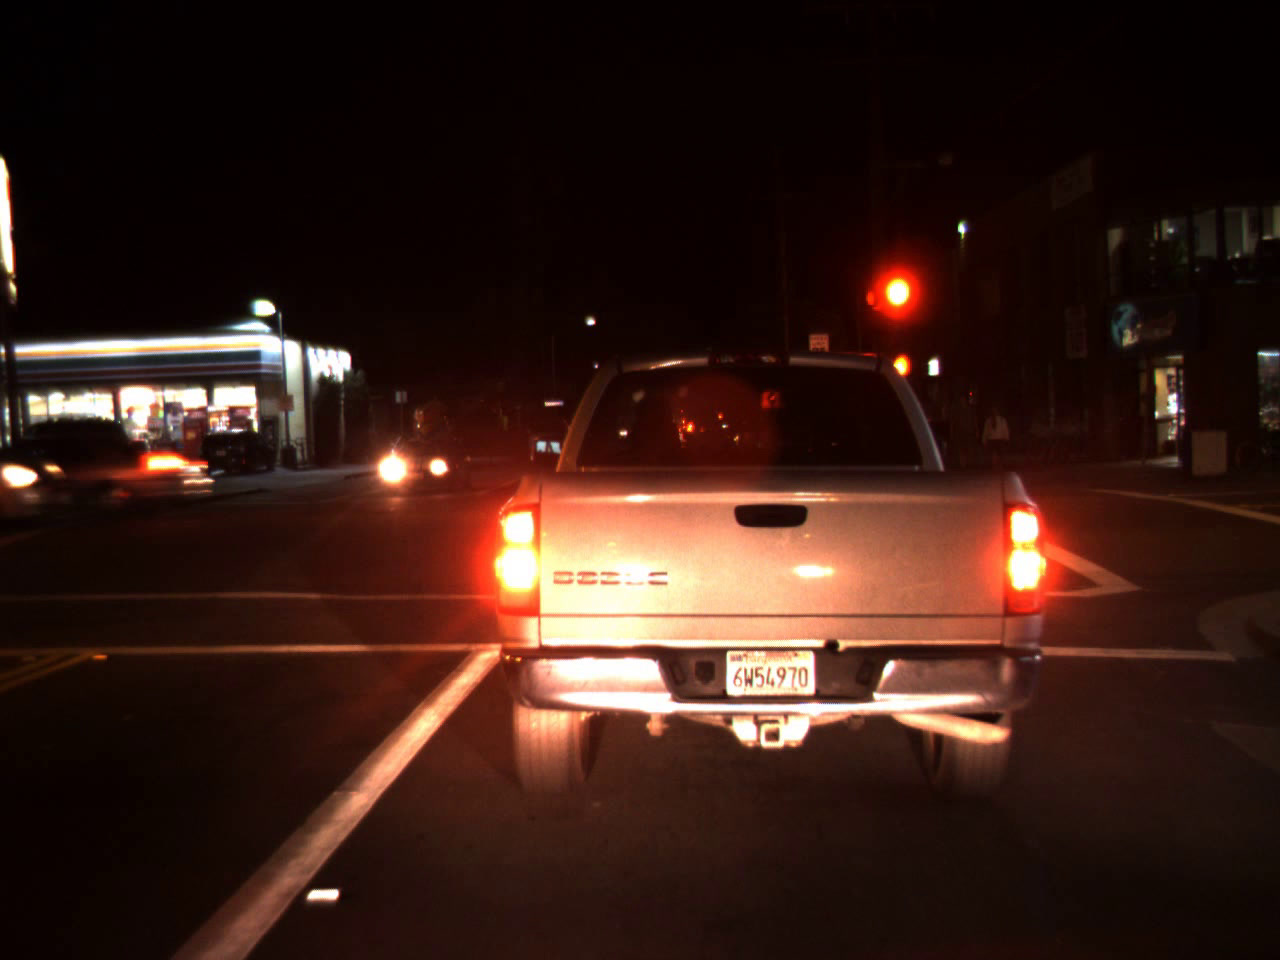stop: (877, 271, 914, 346)
